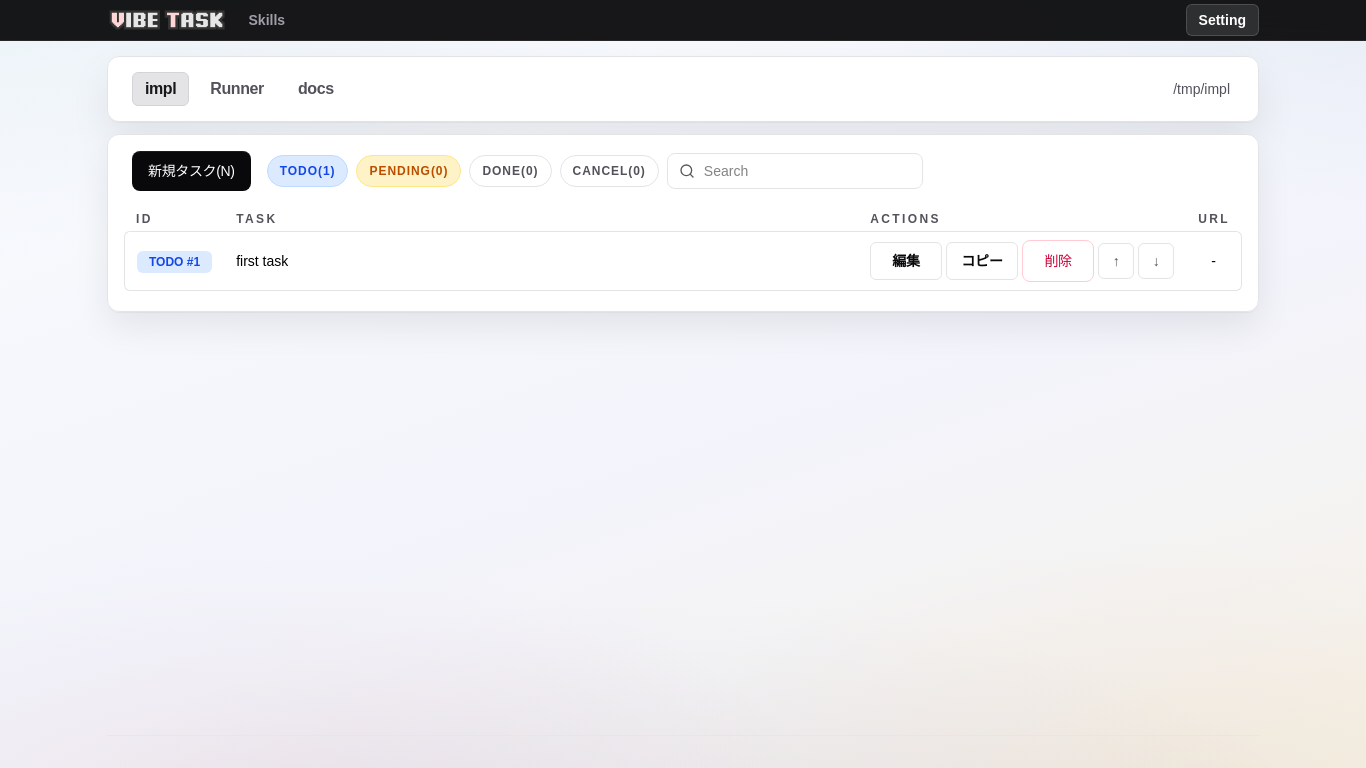
copies an existing task from task list actions
This screenshot has width=1366, height=768.
Expected: the text "first task" is shown, left=236, top=253, right=288, bottom=269
Click the button "コピー": {"x": 982, "y": 261} left=946, top=242, right=1018, bottom=280
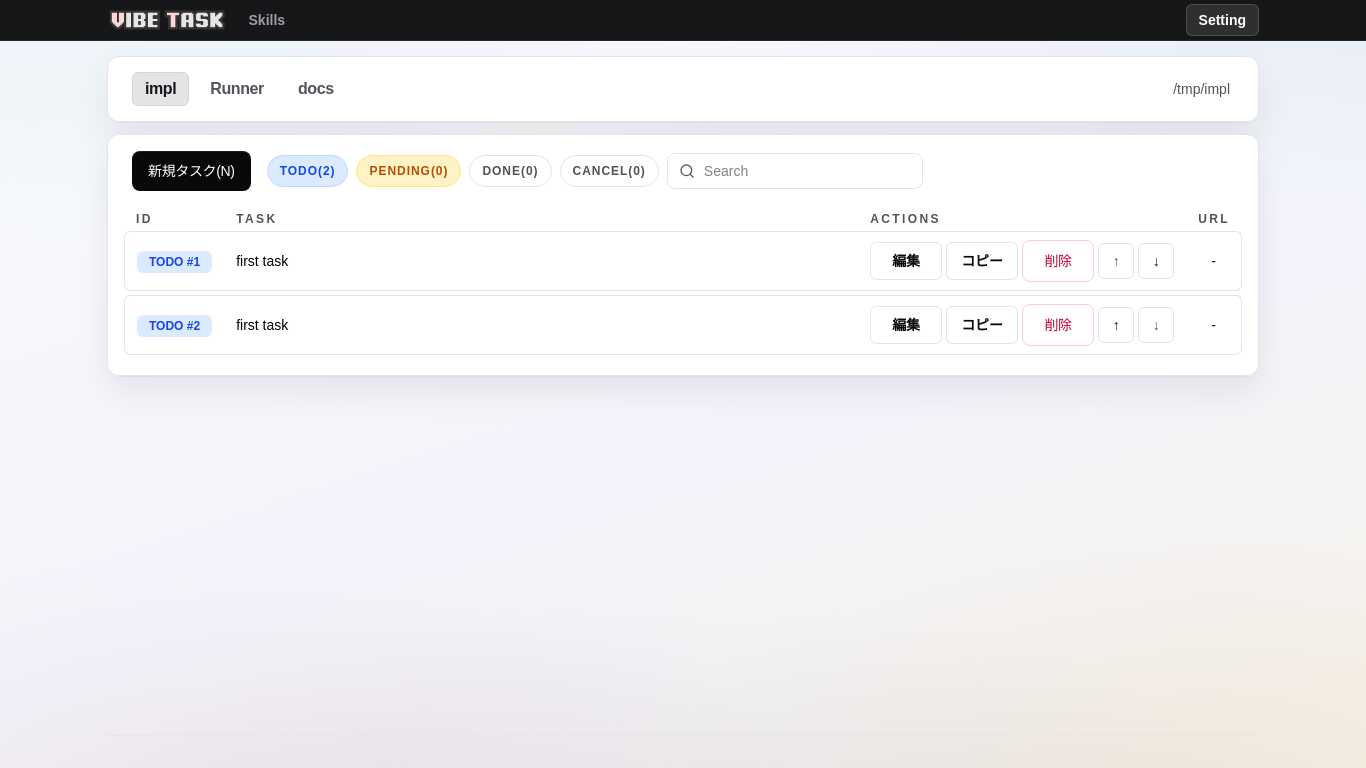
Expected: the text "first task" is shown 2 times, left=236, top=253, right=288, bottom=269; left=236, top=317, right=288, bottom=333
